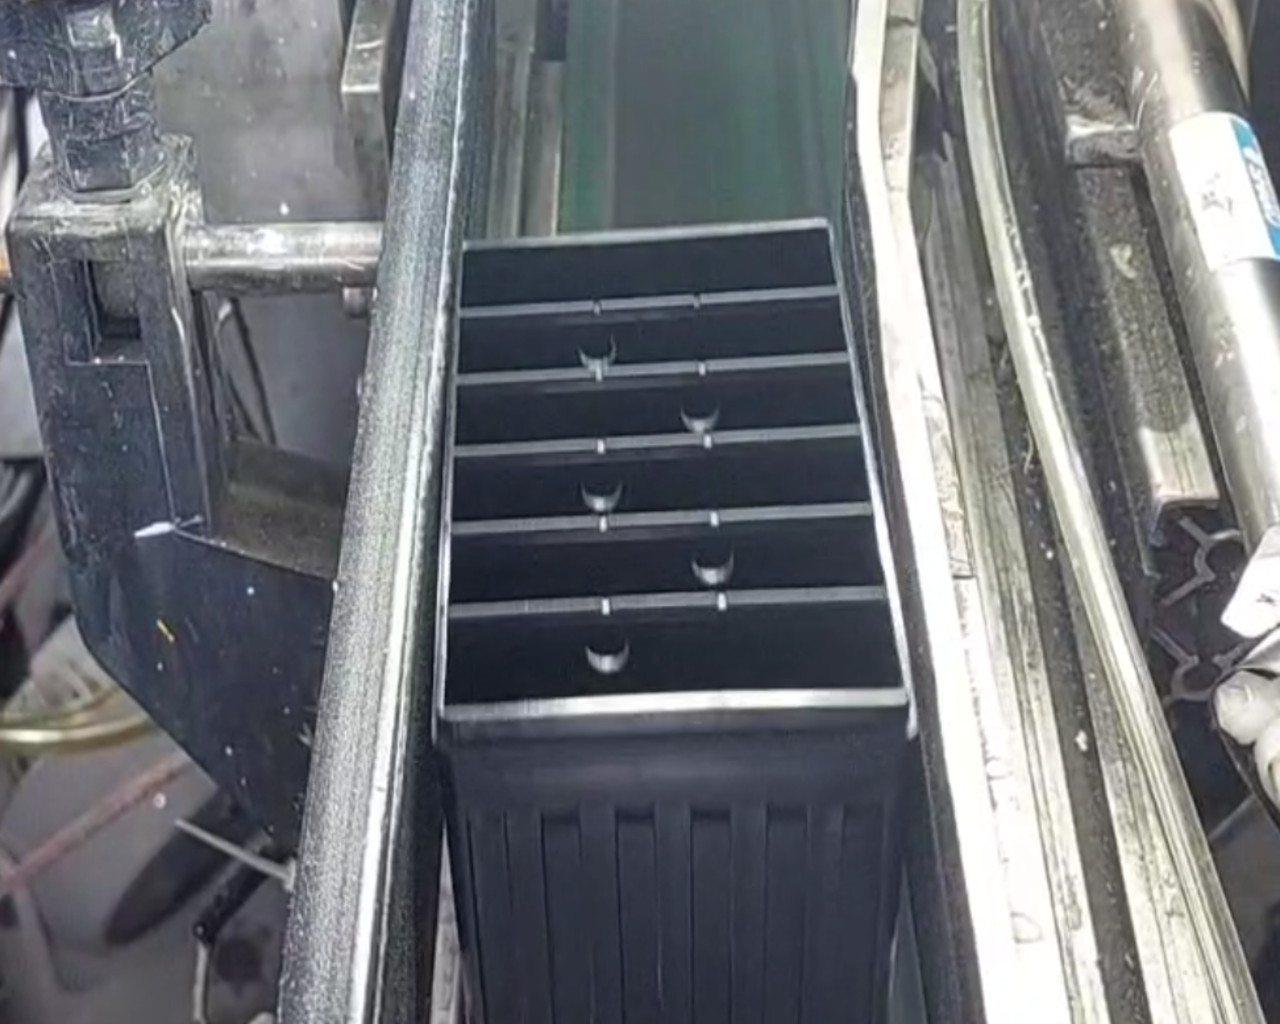box: (415, 204, 928, 768)
round: (677, 529, 749, 592), (572, 621, 642, 682), (560, 320, 631, 378), (572, 459, 634, 518), (669, 379, 730, 437)
